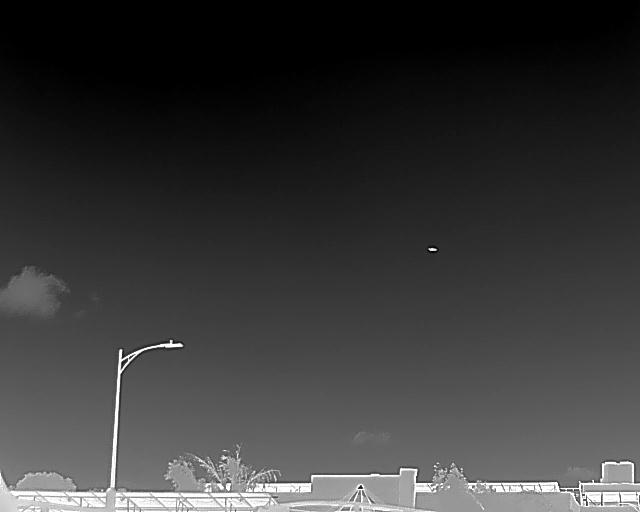fpv-drone: (427, 246, 437, 252)
